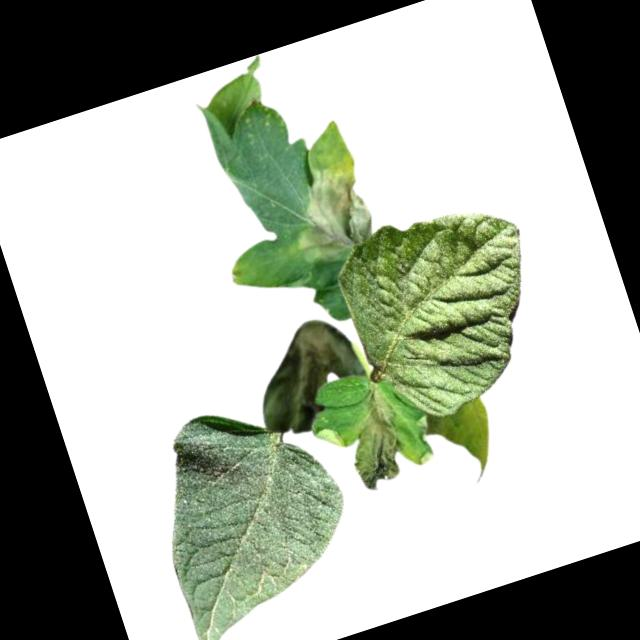Late_blight: (239, 309, 381, 444), (279, 158, 382, 267), (331, 381, 416, 495), (417, 395, 511, 496)
healthy: (130, 379, 378, 640), (325, 186, 568, 436)
